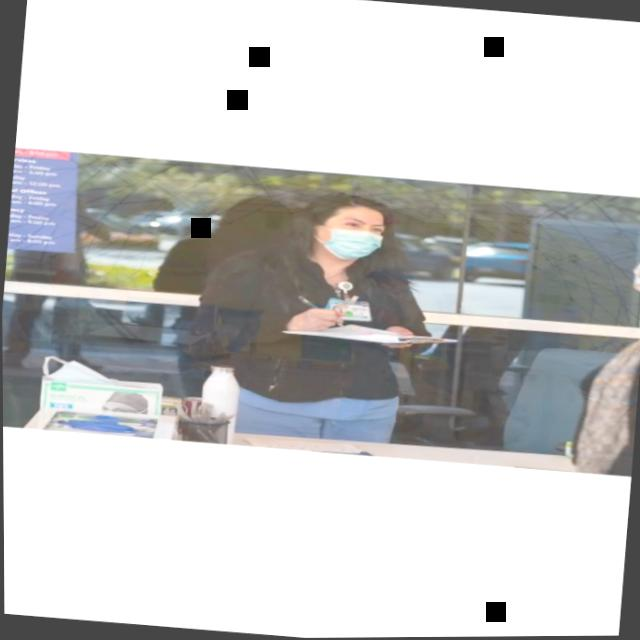Mask: (318, 210, 387, 263), (627, 240, 640, 299)
